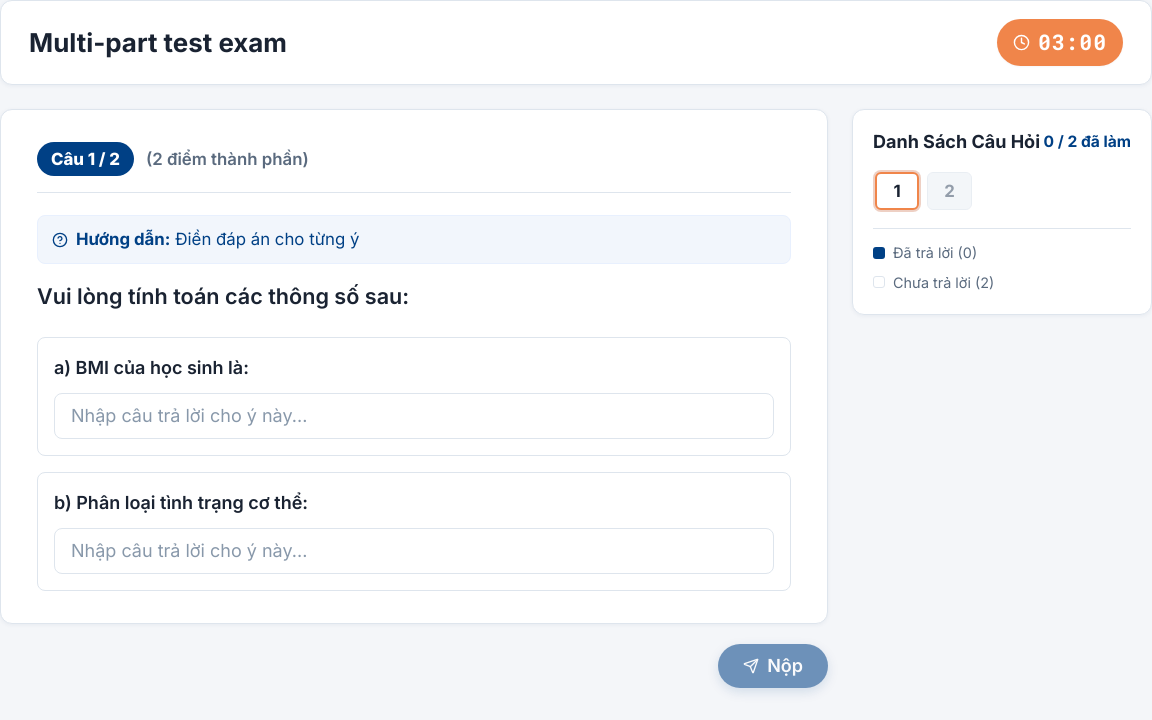
Test: SequentialExamTakingView with MULTI_PART_SHORT_ANSWER › renders inputs for each part and submits payload containing parts array
Expected: the text "a) BMI của học sinh là:" is shown, 54,357 -> 249,378
Expected: the text "b) Phân loại tình trạng cơ thể:" is shown, 54,492 -> 308,513
// Fill in answers for both parts
Type "20.0" into the field with placeholder "Nhập câu trả lời cho ý này..." below "a) BMI của học sinh là:". click: (414, 416)
box: 54,393 -> 774,439
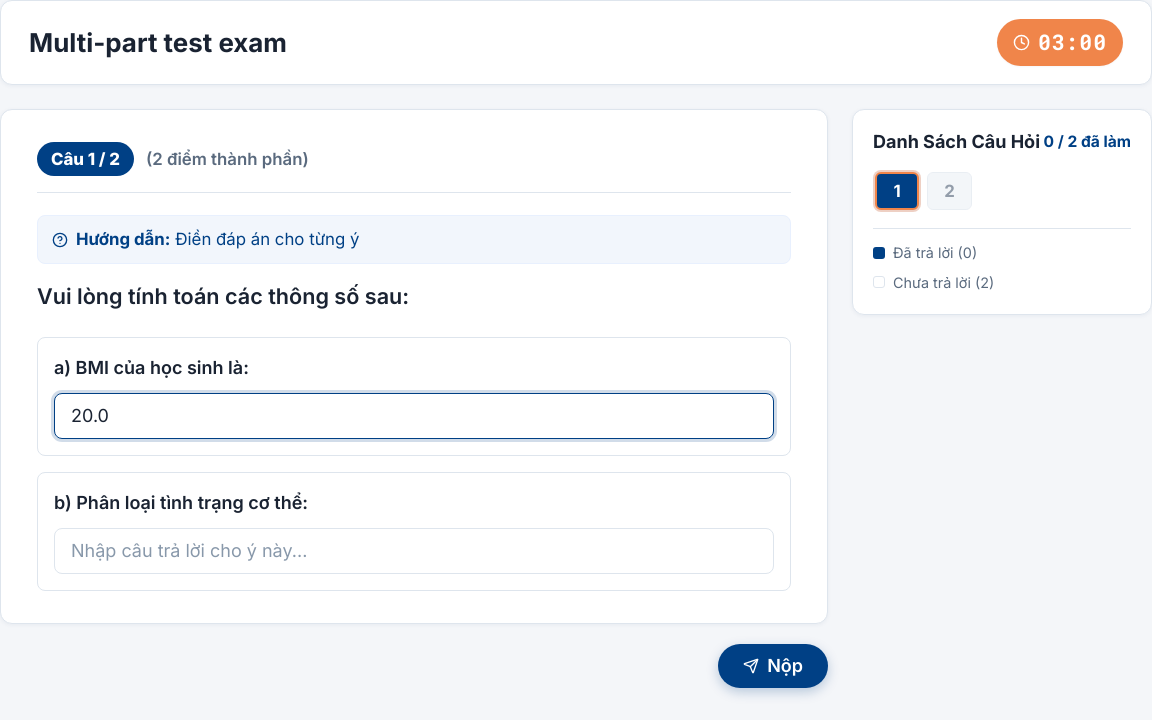
Type "normal" into the field with placeholder "Nhập câu trả lời cho ý này...". click: (414, 551)
box: 54,528 -> 774,574
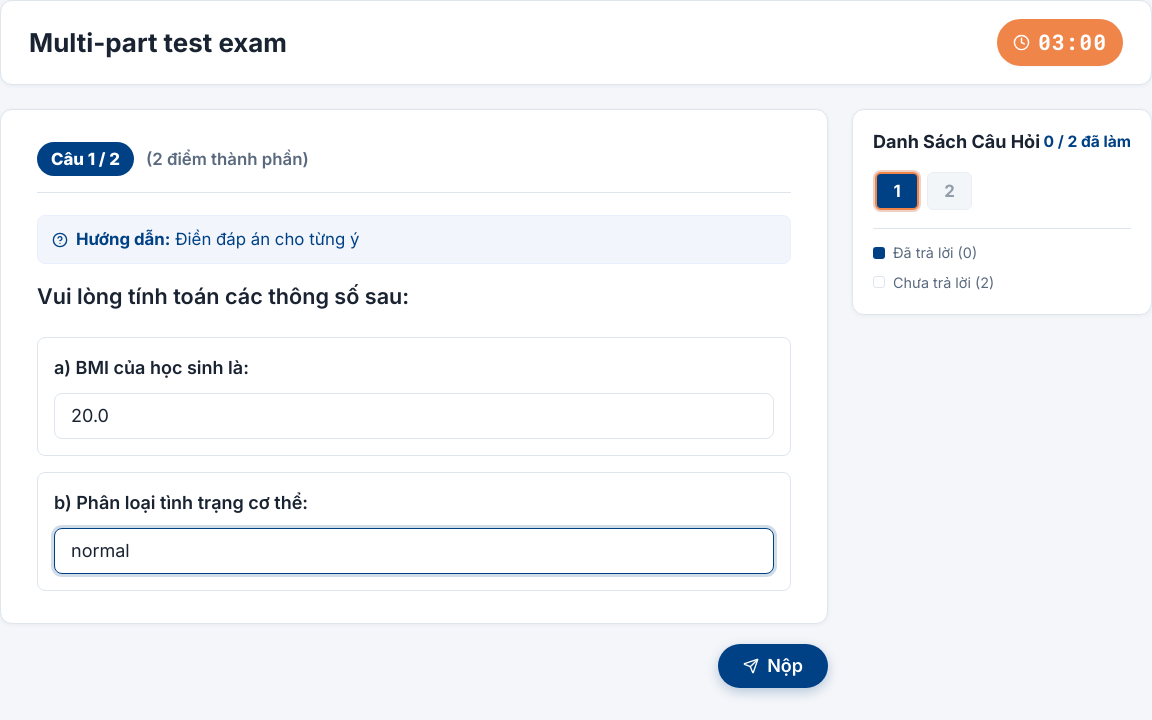
Result: the button "Nộp" is enabled
Click the button "Nộp". click: click(773, 666)
box: 718,644 -> 828,688
(page scrolled)
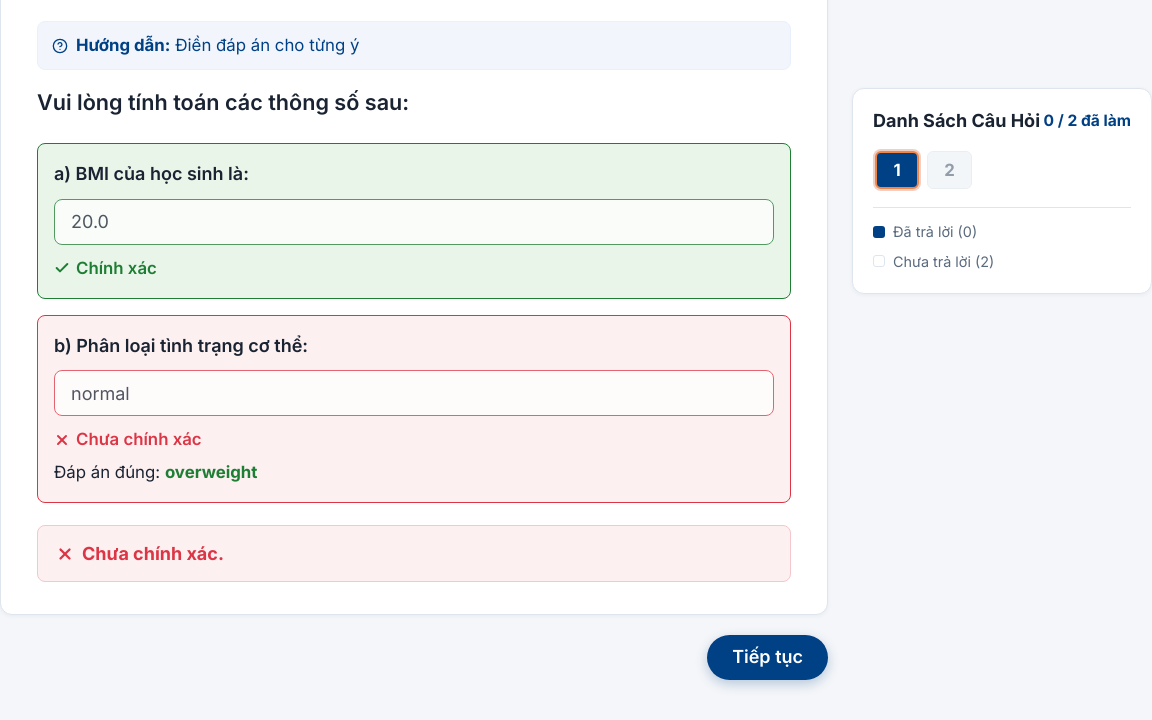
Result: the text "Chính xác" is shown at 76,255 -> 157,282
Result: the text "Chưa chính xác" is shown at 76,426 -> 202,453
Result: the text "overweight" is shown at 165,462 -> 258,482
